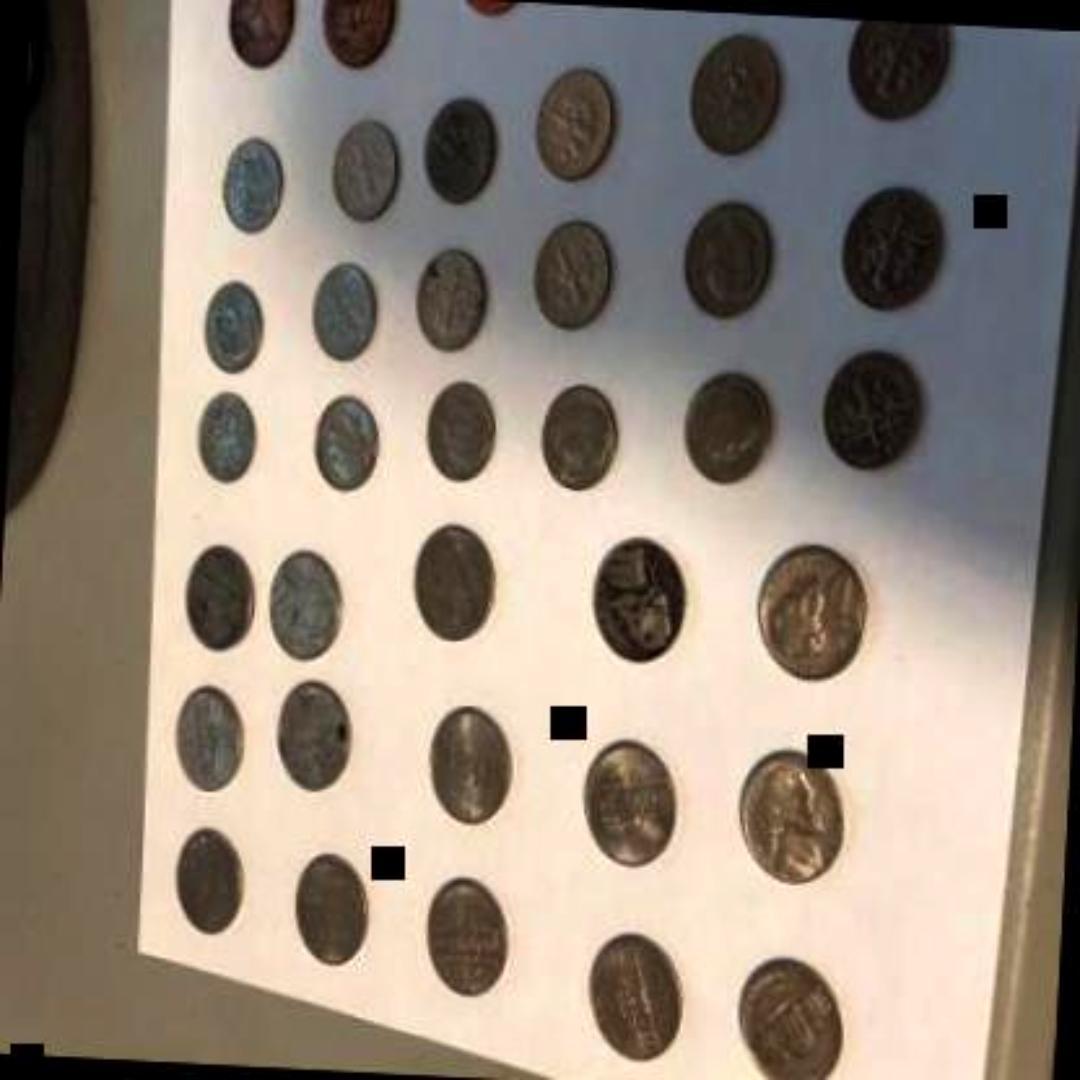Dime: (824, 179, 946, 319), (816, 342, 928, 479), (520, 52, 620, 192), (682, 23, 783, 158), (676, 362, 778, 490), (679, 199, 777, 328), (843, 15, 952, 125), (531, 373, 619, 497), (530, 216, 620, 335), (408, 238, 490, 356), (416, 375, 499, 489), (416, 94, 498, 208), (306, 385, 388, 494), (323, 117, 403, 223), (309, 256, 379, 370), (218, 133, 288, 239), (196, 274, 266, 376), (191, 386, 255, 492)
Nickel: (751, 537, 873, 682), (732, 747, 850, 890), (572, 726, 684, 876), (732, 950, 849, 1080), (582, 929, 690, 1064), (588, 532, 696, 664), (422, 702, 522, 830), (416, 870, 514, 1000), (280, 847, 376, 971), (410, 523, 504, 645), (164, 818, 252, 948), (265, 670, 353, 800), (166, 676, 250, 798), (262, 548, 346, 668), (173, 536, 256, 654)
Penny: (312, 0, 400, 80), (218, 0, 296, 72), (442, 1, 540, 32)
